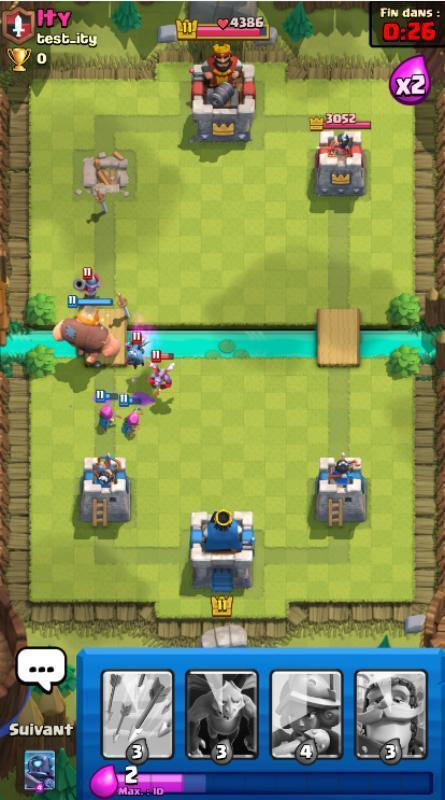enemy_minions: (121, 330, 152, 368), (144, 356, 177, 391)
enemy_musketeer: (71, 265, 105, 297)
player_archers: (90, 392, 120, 432), (118, 401, 146, 438)
player_giant: (50, 305, 124, 370)
